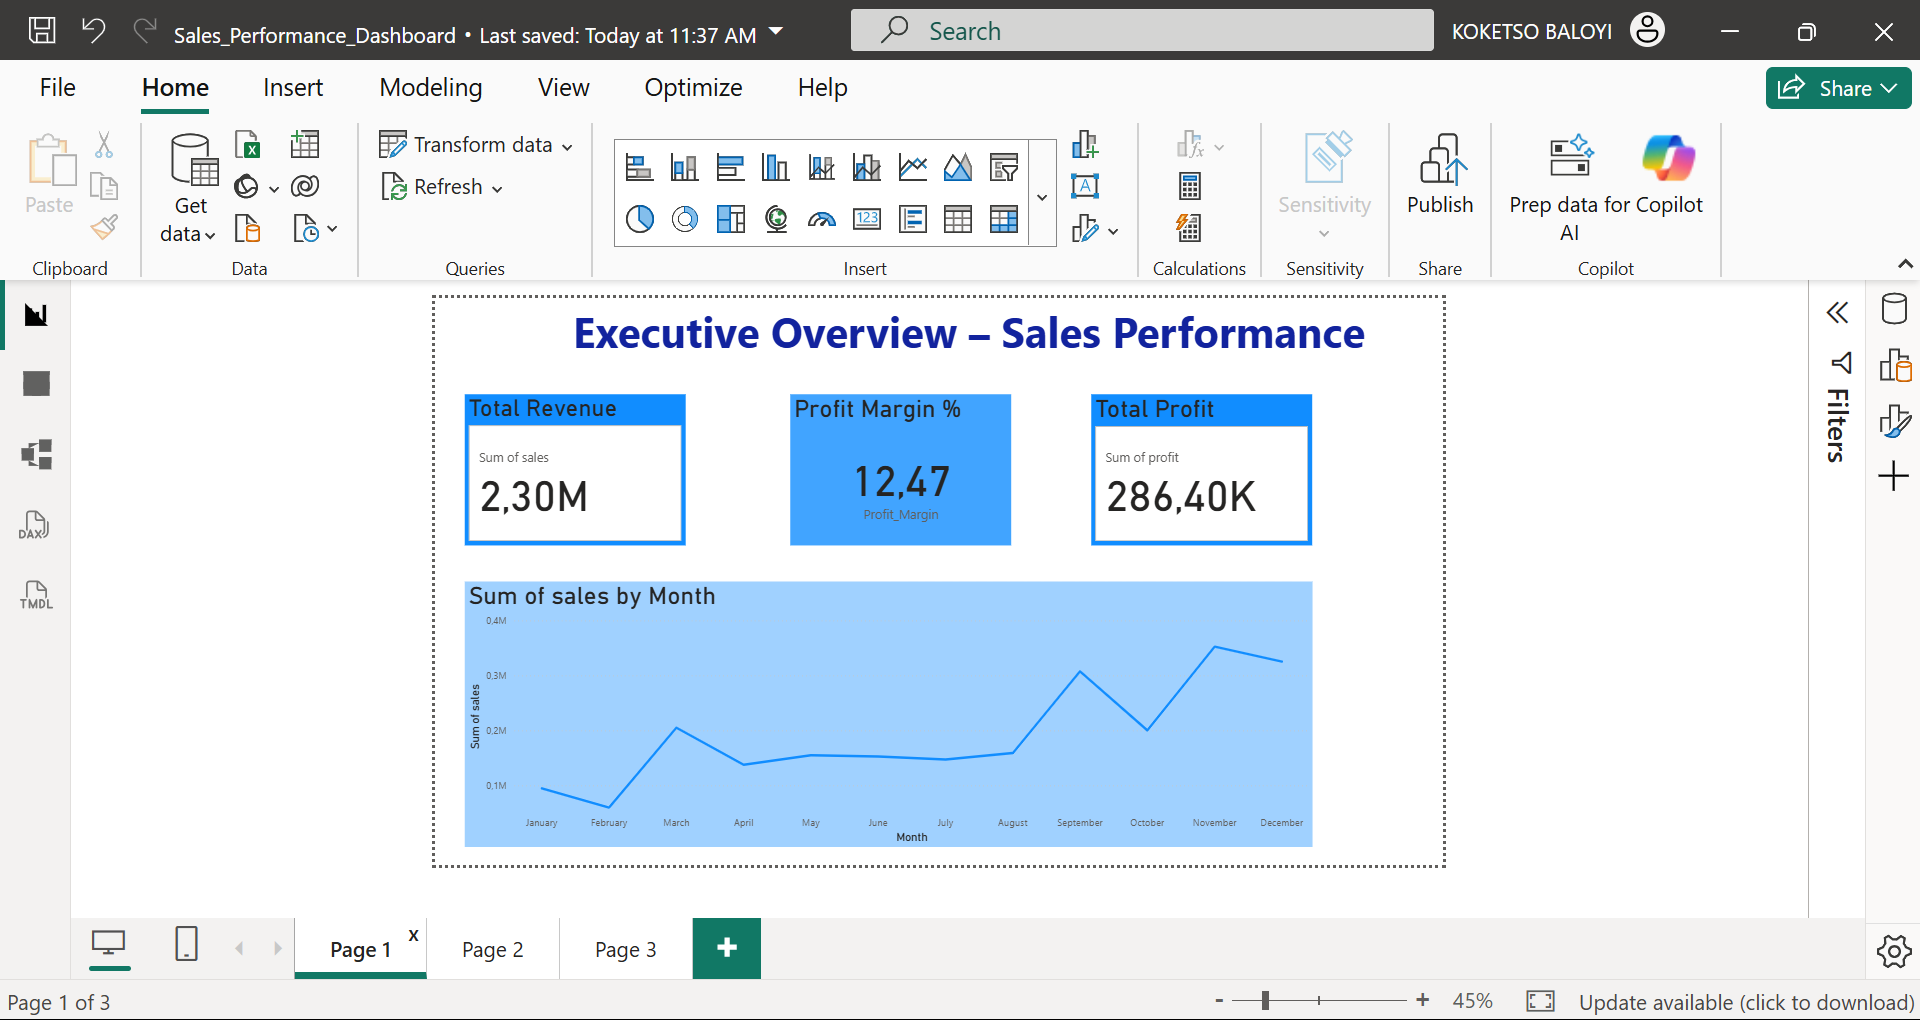

The dashboard page shown, as its layout file describes it:
{"tool":"powerbi","page":{"name":"Page 1","canvas":[1280,720],"ordinal":0},"visuals":[{"type":"cardVisual","title":"Total Revenue","fields":{"Data":["Sum(sales_data.sales)"]},"box":[38.4,121.2,280.8,191.9],"z":0},{"type":"cardVisual","title":"Total Profit","fields":{"Data":["Sum(sales_data.profit)"]},"box":[834.3,121.2,280.8,191.9],"z":1},{"type":"card","title":"Profit Margin %","fields":{"Values":["sales_data.Profit_Margin"]},"box":[450.5,121.2,280.8,191.9],"z":3},{"type":"lineChart","fields":{"Category":["sales_data.order_date.Variation.Date Hierarchy.Month"],"Y":["Sum(sales_data.sales)"]},"box":[38.4,359.6,1076.7,337.4],"z":4},{"type":"textbox","box":[92.9,0,1169.6,92.9],"z":5}]}

Visuals, with their boxes on the page's 1280x720 design canvas (x1, y1, x2, y2). These are canvas units, not pixel positions in the 1920x1020 screenshot, which may show the page scaled, cropped or inside an application window:
"Total Revenue" cardVisual: region(38, 121, 319, 313)
"Total Profit" cardVisual: region(834, 121, 1115, 313)
"Profit Margin %" card: region(450, 121, 731, 313)
lineChart - sales_data.order_date.Variation.Date Hierarchy.Month x Sum(sales_data.sales): region(38, 360, 1115, 697)
textbox: region(93, 0, 1262, 93)
